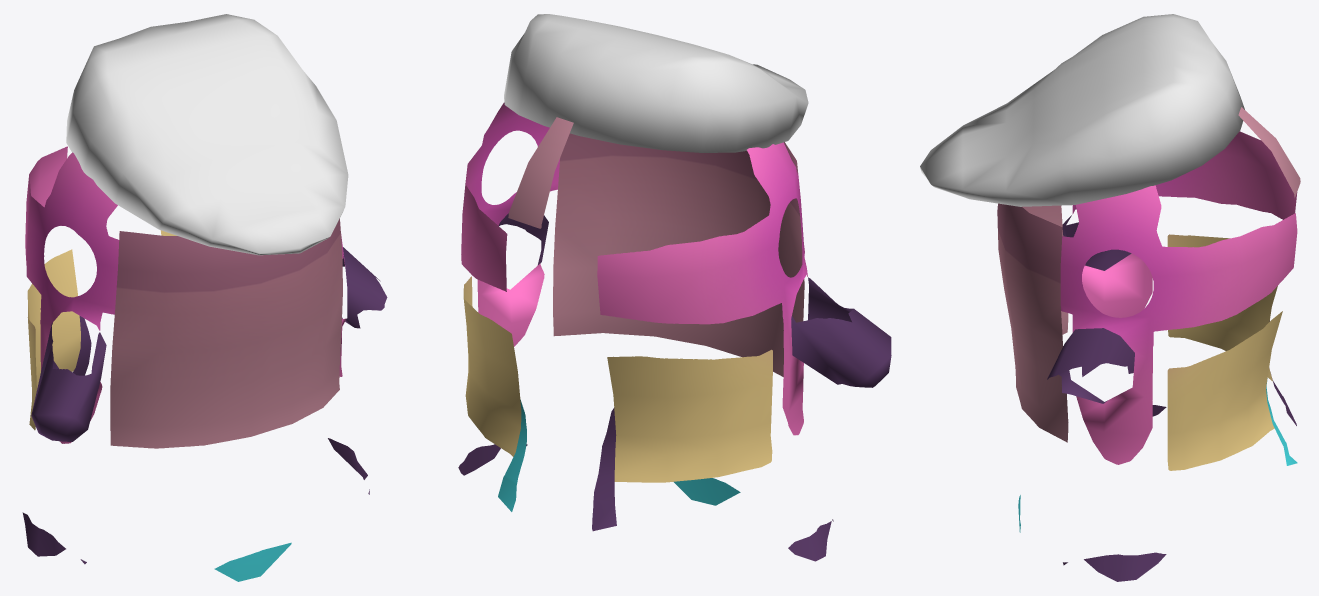
The model's file is MOD_Opa_Neutraal_V1.fbx.
3 views of the same model, side by side, from view 1: azimuth 30°, elevation 25°; view 2: azimuth 150°, elevation 25°; view 3: azimuth 270°, elevation 25° (orthographic). The views are drawn at different scales.
Parts seen in each view (by area): view 1: Sphere, Cylinder.006; view 2: Sphere, Cylinder.006; view 3: Sphere, Cylinder.006.
Part boxes in pixels (x1,y1,x2,y2): Sphere: (22, 146, 387, 581); Cylinder.006: (66, 14, 348, 255); Sphere: (458, 102, 891, 561); Cylinder.006: (504, 14, 808, 152); Sphere: (997, 107, 1300, 581); Cylinder.006: (920, 14, 1244, 206).
Bounding box in the file's own units: 239 × 288 × 209.
